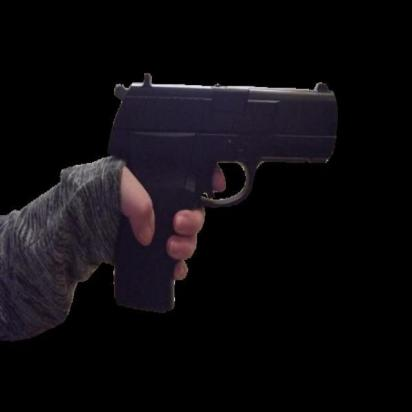Gun: (106, 70, 347, 320)
